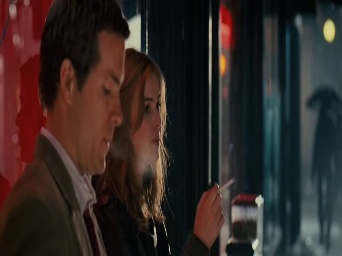smoke: (213, 176, 237, 196)
